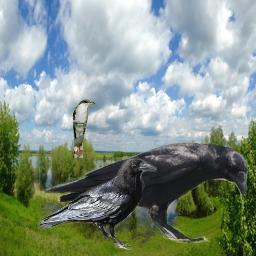Crow: (42, 141, 248, 243), (37, 156, 157, 250)
Cuckoo: (72, 99, 95, 158)
